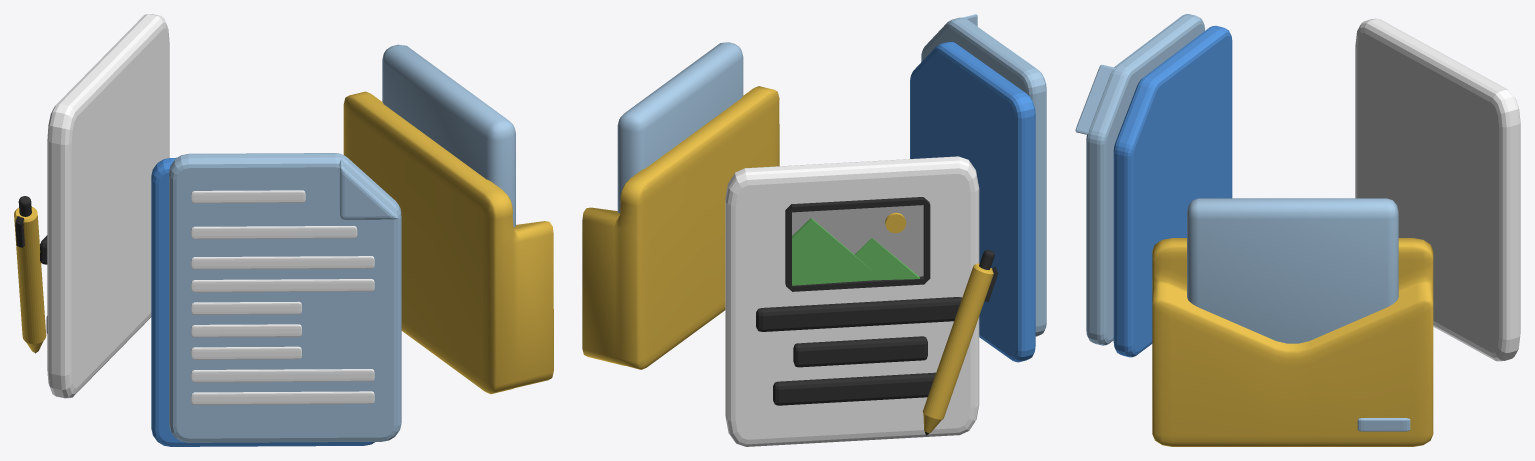
File: CumarAI.glb
3 renders of one model, left to right at view 1: azimuth 30°, elevation 25°; view 2: azimuth 150°, elevation 25°; view 3: azimuth 270°, elevation 25°, orthographic. The views are drawn at different scales.
Visible parts, largest first — view 1: Cylinder.001; view 2: Cylinder.001; view 3: Cylinder.001.
Part boxes in pixels (box(x1,y1,x2,y2)): Cylinder.001: box(14, 14, 553, 446); Cylinder.001: box(582, 14, 1046, 446); Cylinder.001: box(1075, 14, 1520, 446).
Bounding box in the file's own units: 3.25 × 2.27 × 3.23.
